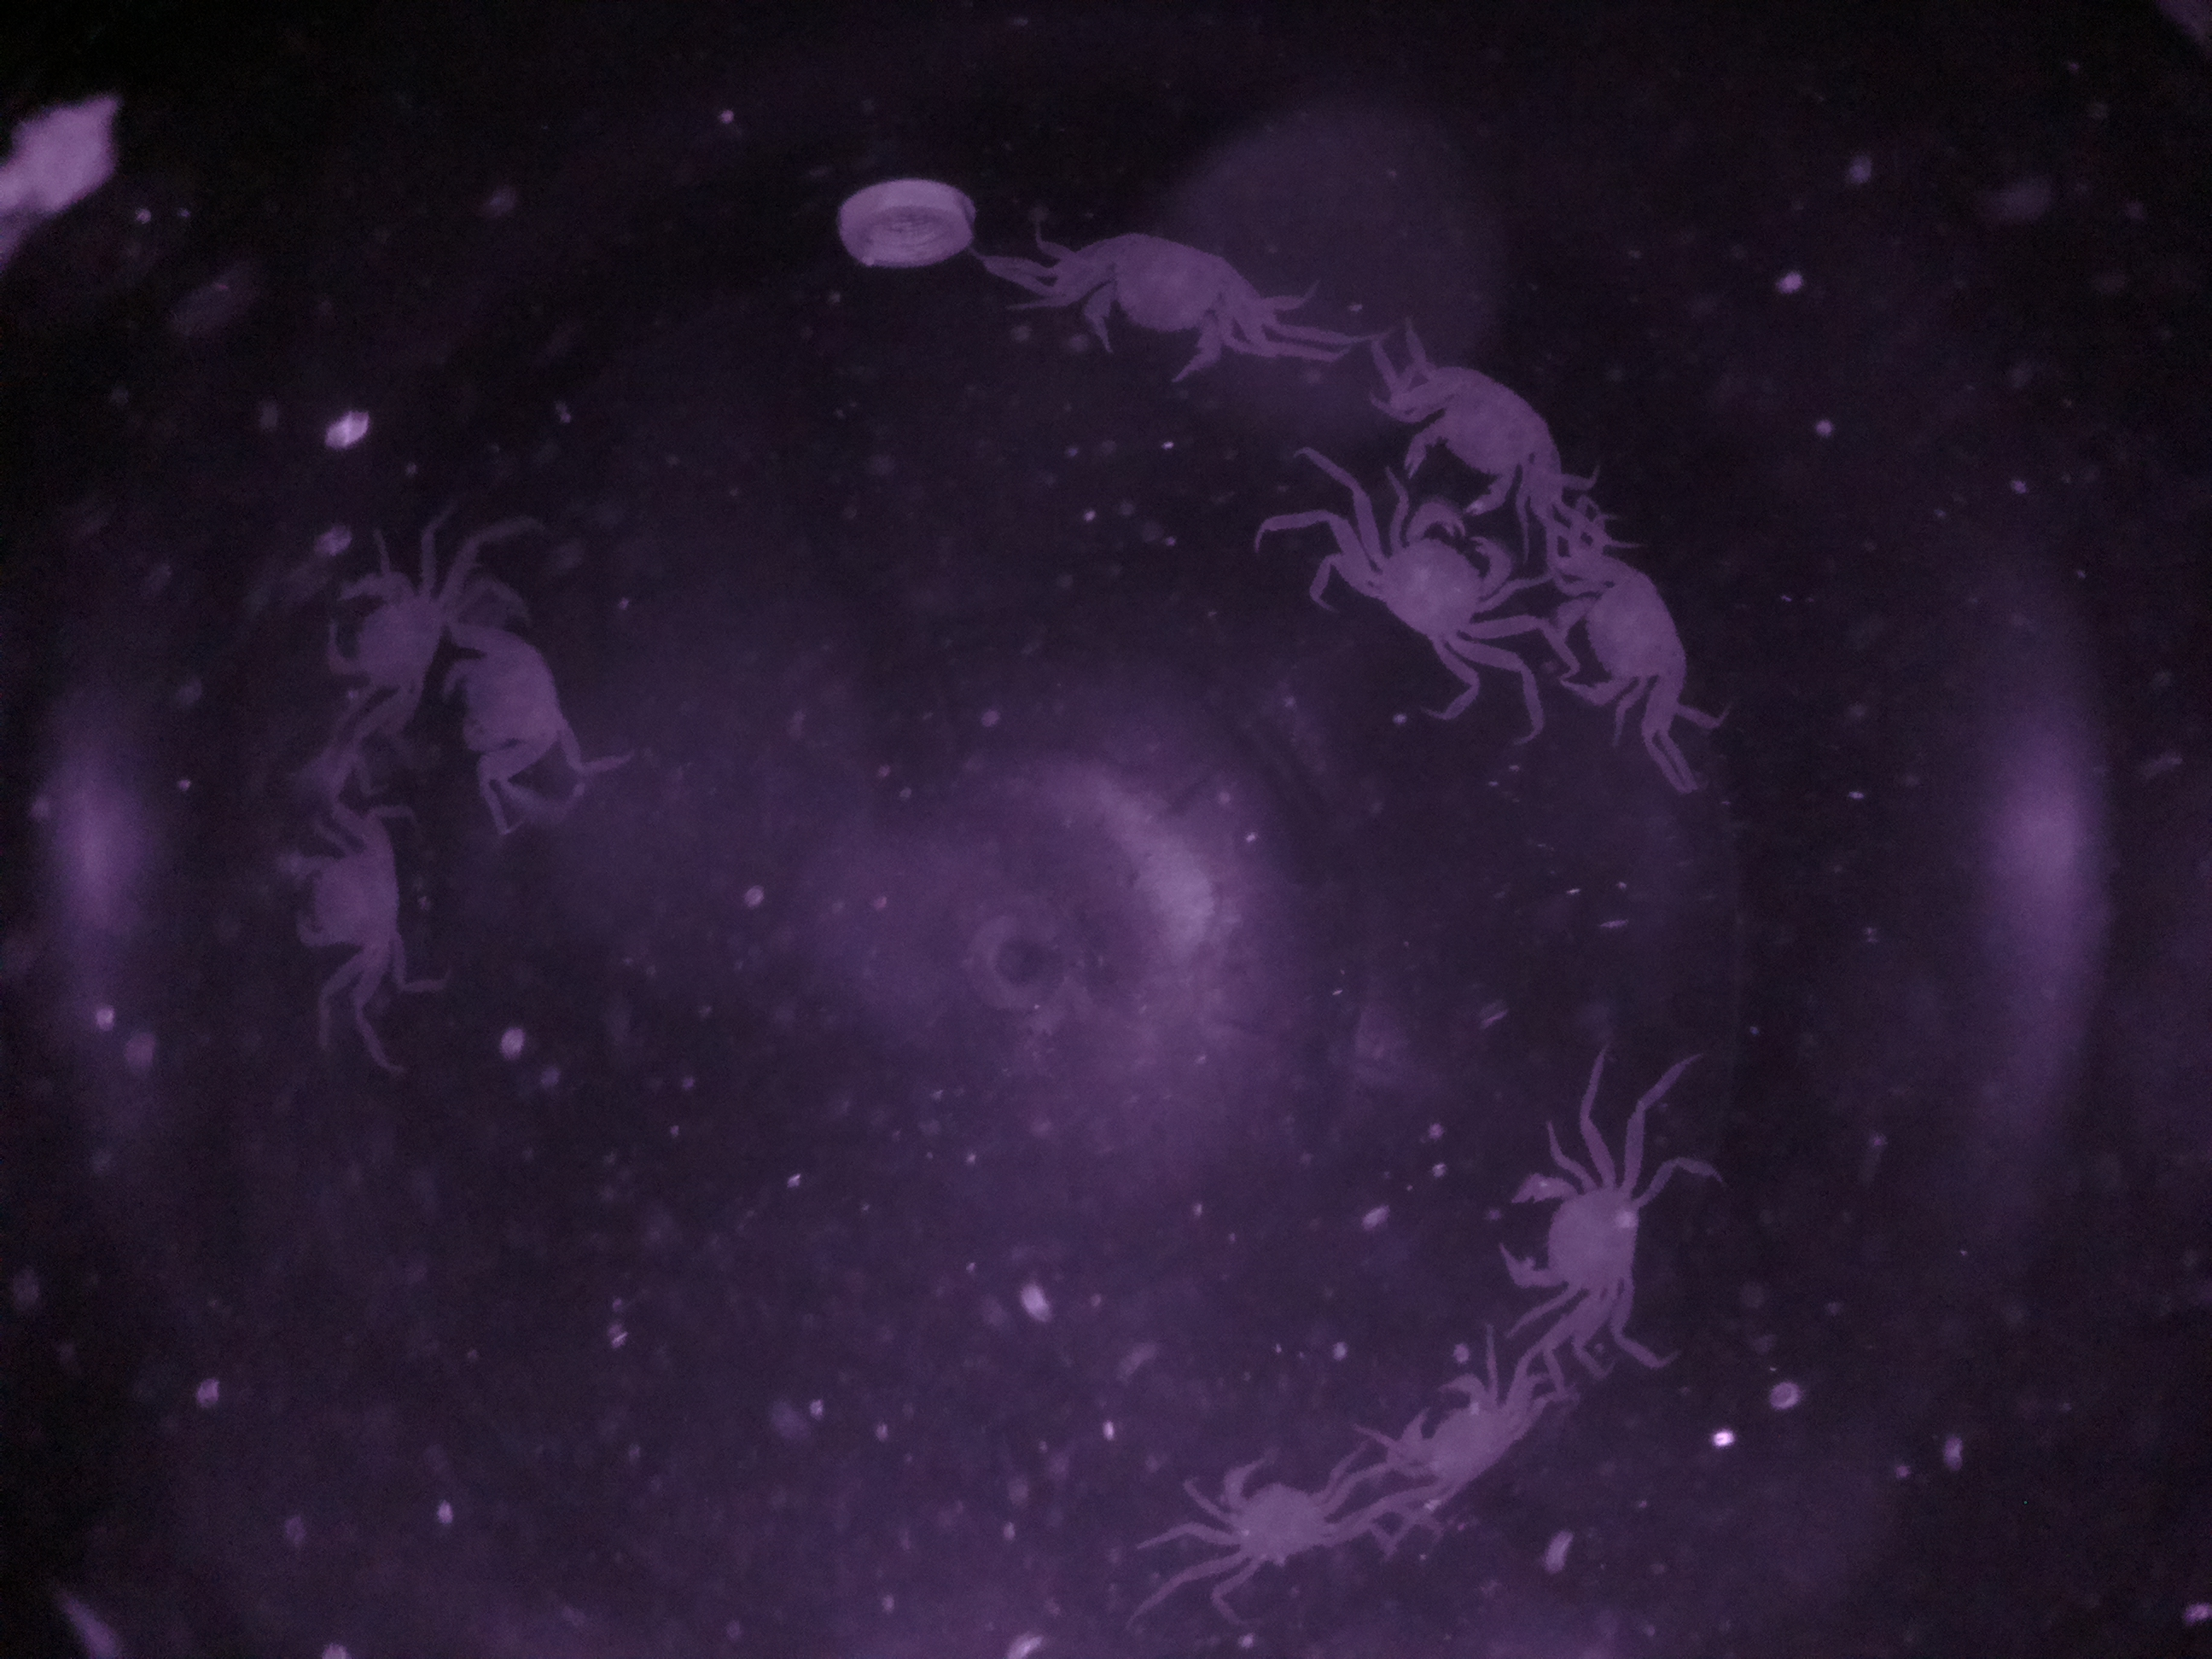Crab: (1040, 214, 1277, 397), (1479, 1131, 1681, 1331), (1343, 488, 1522, 683), (1541, 540, 1714, 737), (1193, 1432, 1378, 1595), (1392, 1359, 1550, 1530)
